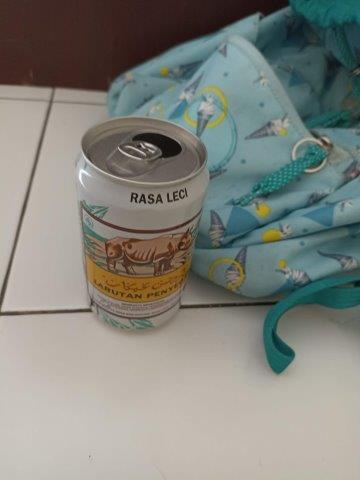kaleng: (76, 115, 209, 334)
